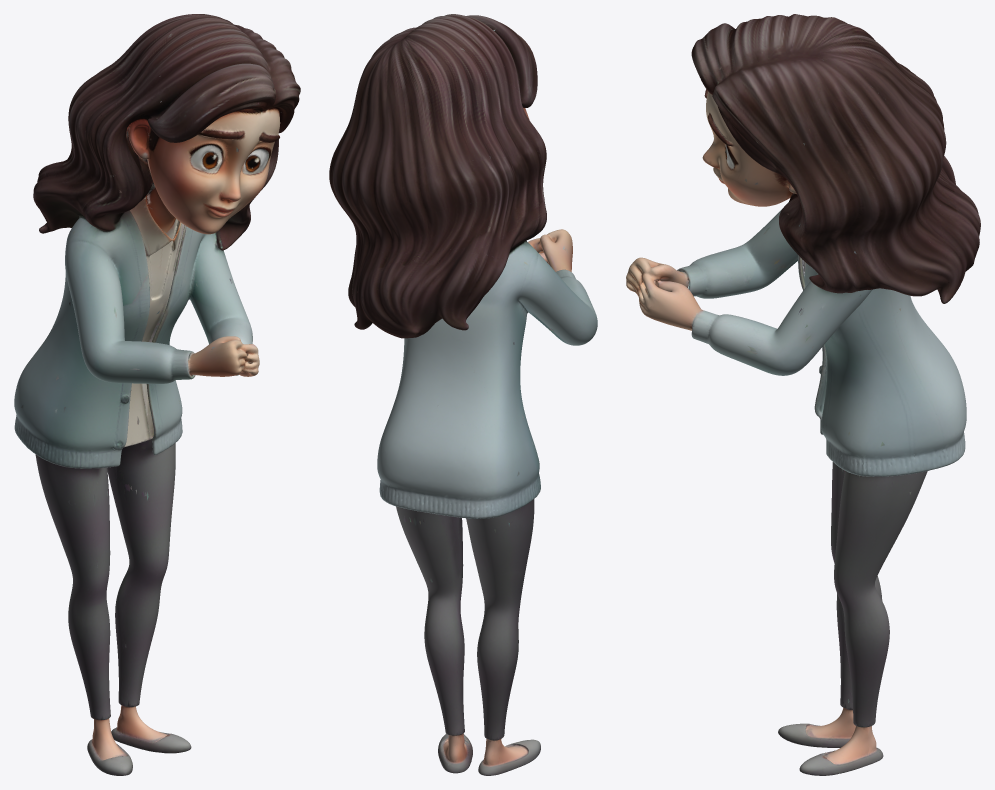
The model's file is people_pleaser.glb.
3 views of the same model, side by side, from view 1: azimuth 30°, elevation 25°; view 2: azimuth 150°, elevation 25°; view 3: azimuth 270°, elevation 25° (orthographic). The views are drawn at different scales.
Bounding box in the file's own units: 0.5872 × 1.9 × 0.8009.
1 material, 1 textured.
